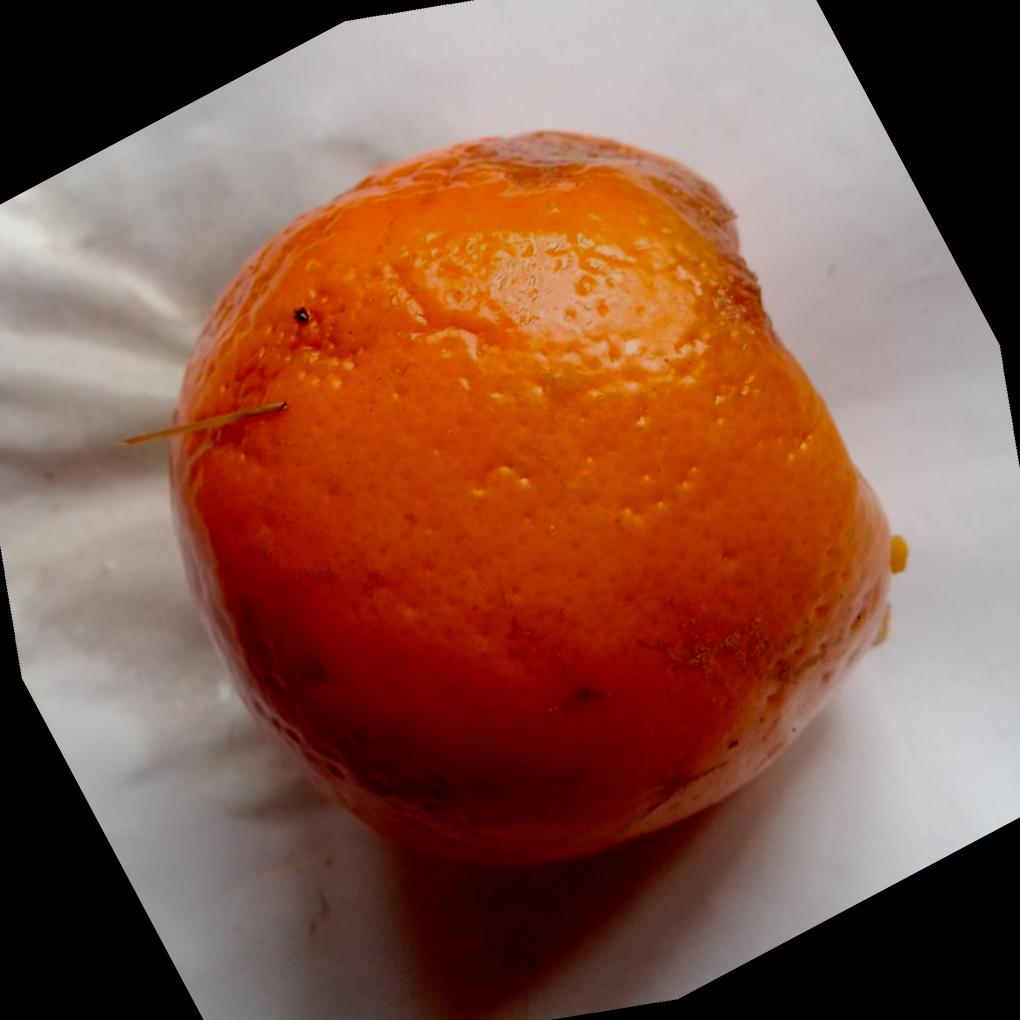FreshOrange: (158, 128, 911, 877)
